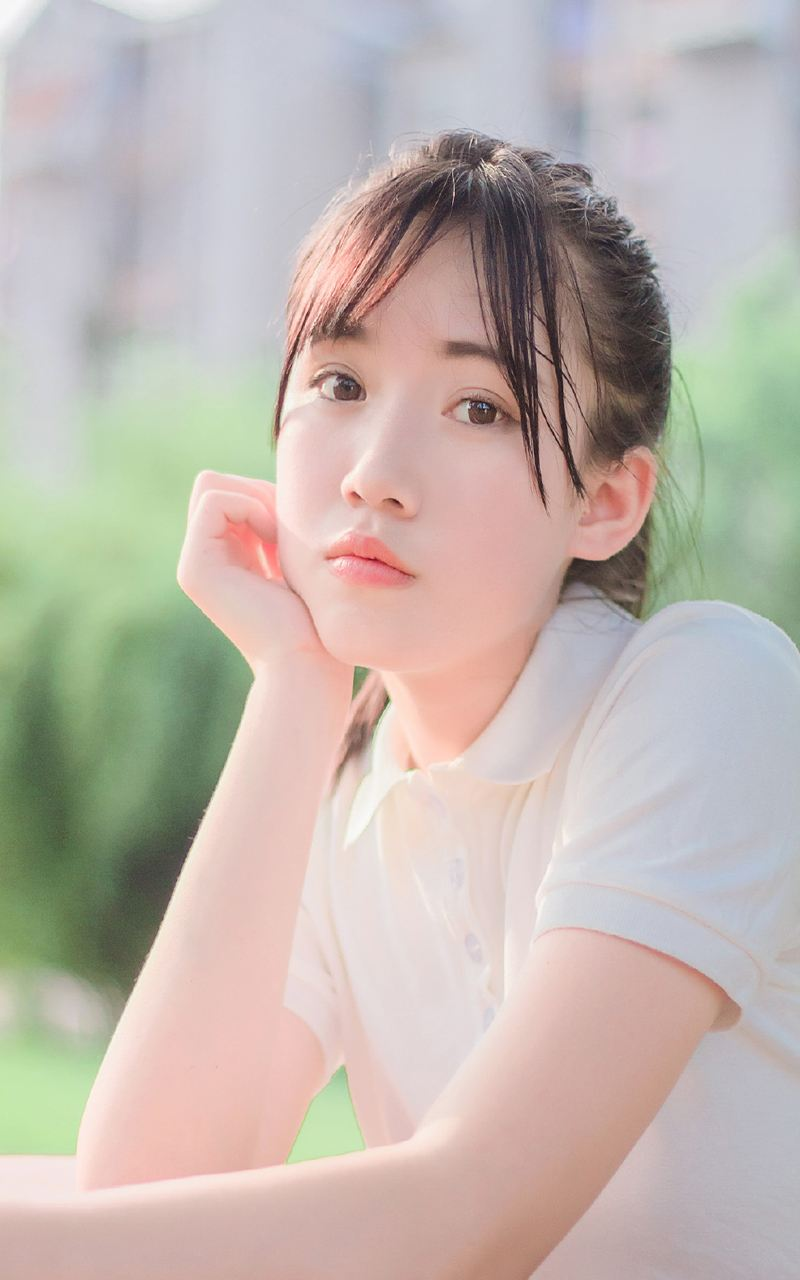person: (88, 100, 790, 1061)
